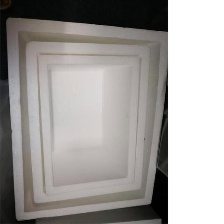foam_box: (2, 14, 167, 224)
